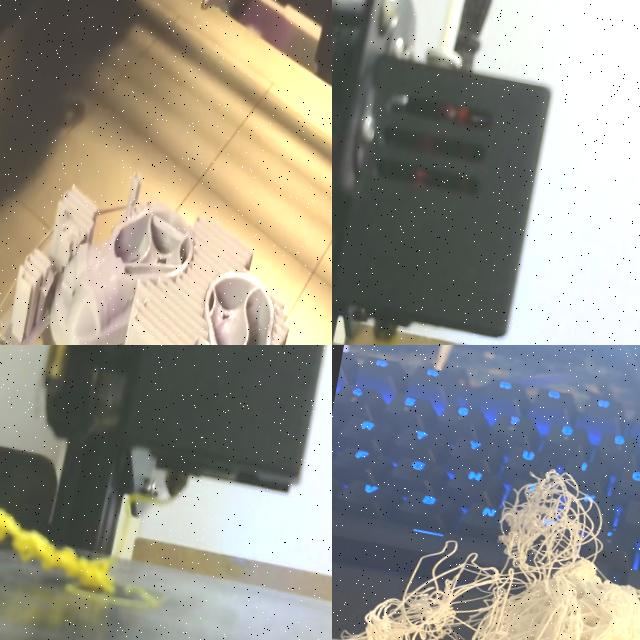spaghetti: (332, 451, 640, 640), (0, 507, 115, 594)
